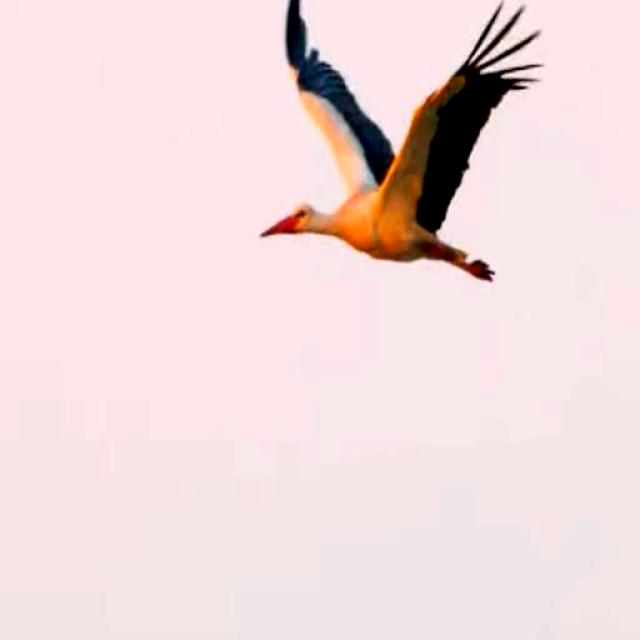airplane: (259, 0, 545, 309)
